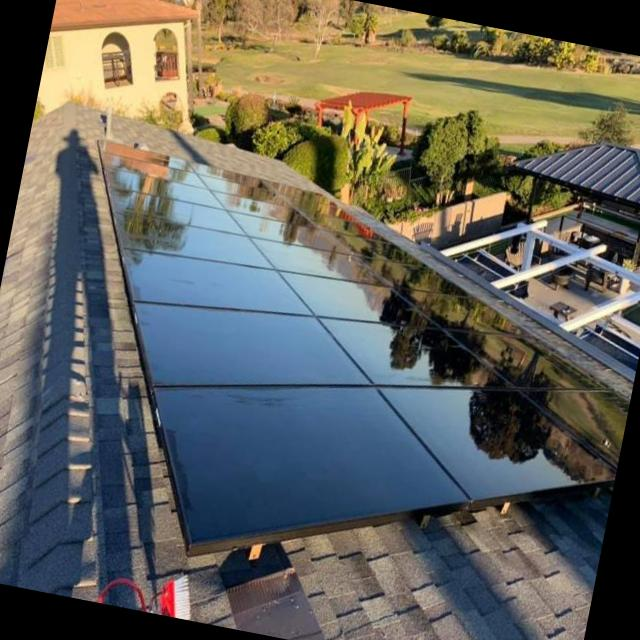no faulty: (157, 386, 469, 554), (384, 388, 616, 495), (133, 303, 372, 389), (323, 318, 514, 383), (125, 249, 310, 315), (448, 328, 610, 388), (523, 390, 629, 469), (117, 216, 273, 268), (285, 273, 439, 325), (395, 288, 533, 335), (253, 239, 387, 285), (113, 190, 244, 235), (231, 212, 352, 253), (105, 168, 223, 207), (103, 153, 206, 188), (363, 258, 463, 294), (215, 192, 316, 227), (101, 142, 195, 172), (330, 233, 423, 263), (302, 212, 387, 242), (201, 177, 289, 204)
